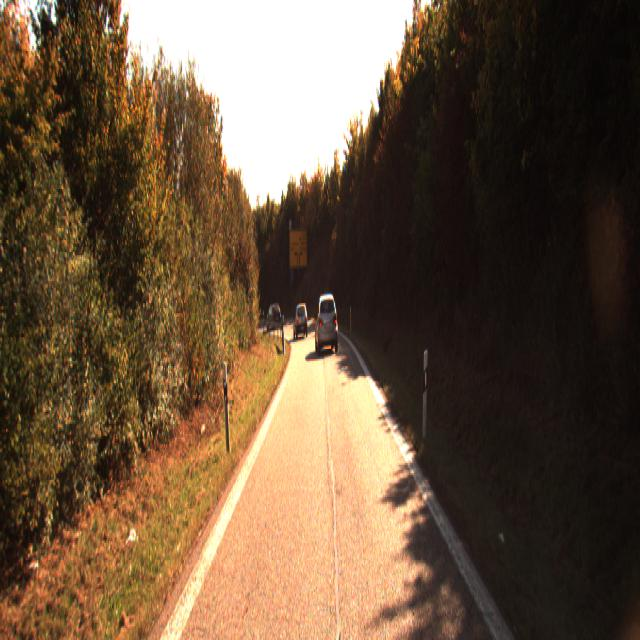Car: (315, 290, 338, 352), (294, 305, 309, 340), (266, 304, 282, 329)
